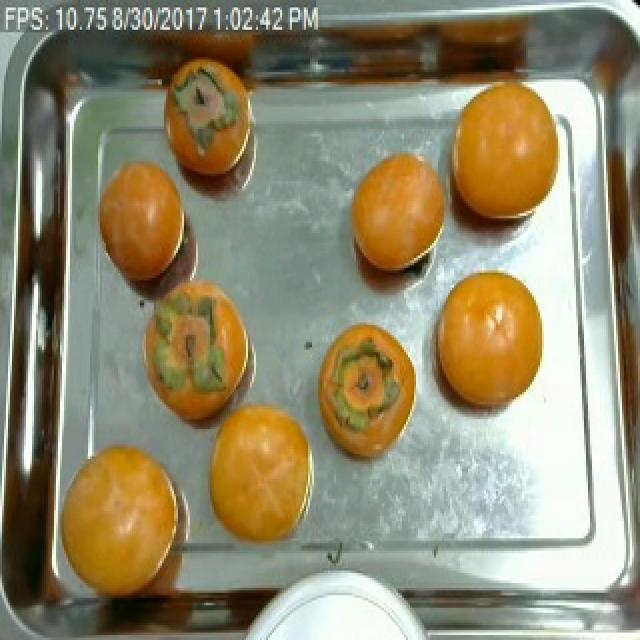Fruit: (54, 429, 194, 610), (192, 382, 330, 563), (420, 258, 556, 429), (434, 77, 568, 243), (306, 310, 426, 474), (132, 265, 260, 417), (336, 139, 456, 288), (94, 142, 190, 300)
